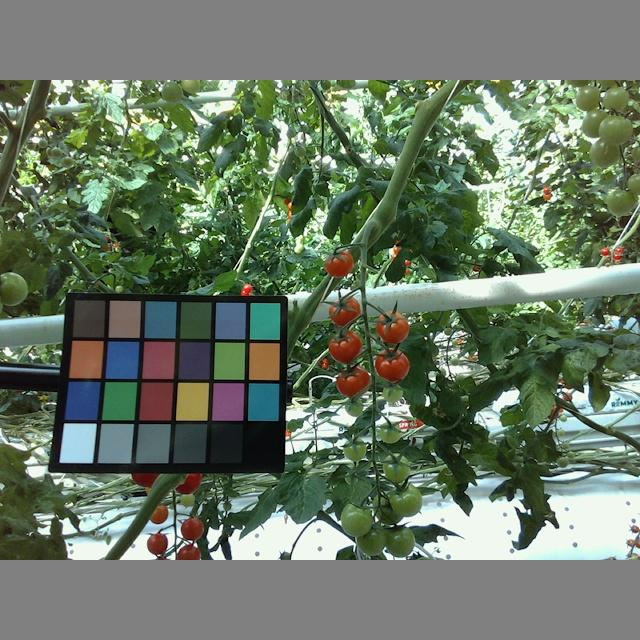green: (354, 522, 389, 556), (340, 501, 373, 536), (388, 484, 423, 516), (383, 525, 415, 560), (598, 115, 632, 147), (1, 270, 28, 308), (589, 137, 621, 169), (608, 185, 639, 214), (380, 453, 410, 482), (580, 108, 608, 137), (576, 83, 602, 112), (600, 84, 628, 110), (343, 437, 369, 462), (379, 421, 403, 443), (345, 394, 363, 416), (382, 383, 402, 402)
pink: (328, 331, 363, 365), (377, 347, 409, 382), (336, 365, 368, 399), (377, 311, 408, 343), (327, 298, 361, 326), (324, 248, 355, 277), (179, 518, 206, 540), (146, 532, 170, 554), (146, 499, 168, 523)
